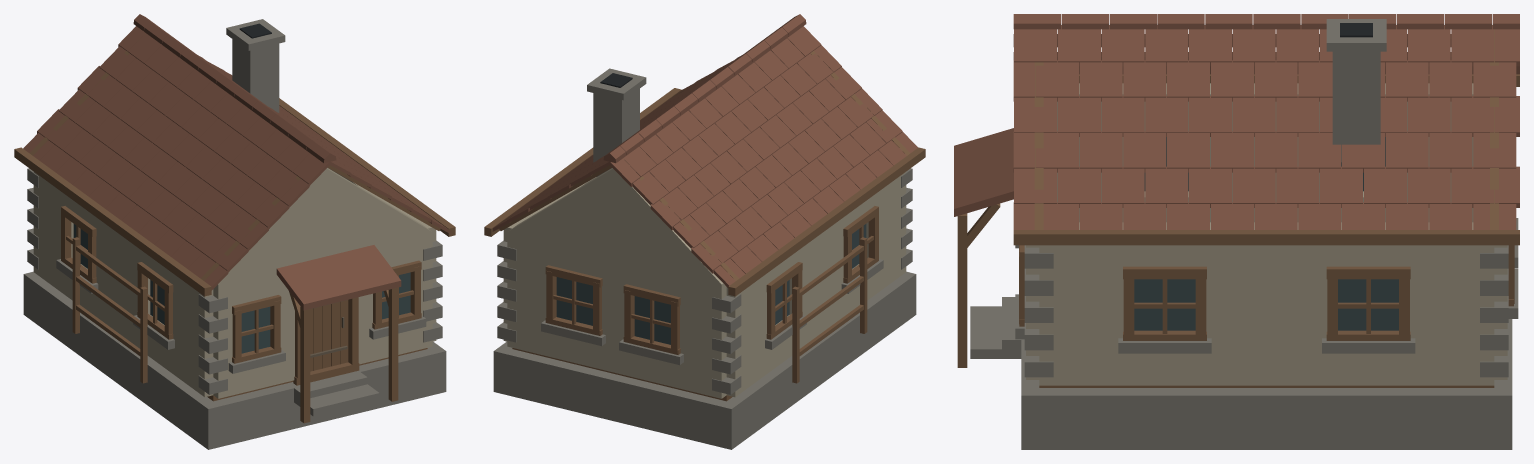
File: fisher_cottage.glb
3 views of the same model, side by side, from view 1: azimuth 30°, elevation 25°; view 2: azimuth 150°, elevation 25°; view 3: azimuth 270°, elevation 25° (orthographic). The views are drawn at different scales.
Visible parts, largest first — view 1: fisher_cottage_Fisher muted russet shingles, fisher_cottage_Keeper lime plaster, fisher_cottage_Keeper sandstone foundations, fisher_cottage_Keeper weathered oak, fisher_cottage_Keeper window glass; view 2: fisher_cottage_Fisher muted russet shingles, fisher_cottage_Keeper lime plaster, fisher_cottage_Keeper sandstone foundations, fisher_cottage_Keeper weathered oak, fisher_cottage_Keeper window glass; view 3: fisher_cottage_Fisher muted russet shingles, fisher_cottage_Keeper lime plaster, fisher_cottage_Keeper sandstone foundations, fisher_cottage_Keeper weathered oak, fisher_cottage_Keeper window glass.
Part boxes in pixels (left/top/right/bottom): fisher_cottage_Fisher muted russet shingles: left=23, top=14, right=452, bottom=310; fisher_cottage_Keeper lime plaster: left=33, top=167, right=436, bottom=398; fisher_cottage_Keeper sandstone foundations: left=23, top=19, right=446, bottom=449; fisher_cottage_Keeper weathered oak: left=14, top=33, right=455, bottom=423; fisher_cottage_Keeper window glass: left=73, top=224, right=410, bottom=353; fisher_cottage_Fisher muted russet shingles: left=492, top=14, right=917, bottom=287; fisher_cottage_Keeper lime plaster: left=503, top=168, right=906, bottom=398; fisher_cottage_Keeper sandstone foundations: left=493, top=68, right=916, bottom=449; fisher_cottage_Keeper weathered oak: left=484, top=51, right=925, bottom=401; fisher_cottage_Keeper window glass: left=556, top=224, right=866, bottom=344; fisher_cottage_Fisher muted russet shingles: left=954, top=14, right=1519, bottom=229; fisher_cottage_Keeper lime plaster: left=1026, top=83, right=1507, bottom=385; fisher_cottage_Keeper sandstone foundations: left=970, top=19, right=1518, bottom=449; fisher_cottage_Keeper weathered oak: left=957, top=29, right=1519, bottom=387; fisher_cottage_Keeper window glass: left=1134, top=137, right=1398, bottom=330.
Bounding box in the file's own units: 6.48 × 6.98 × 9.44.
